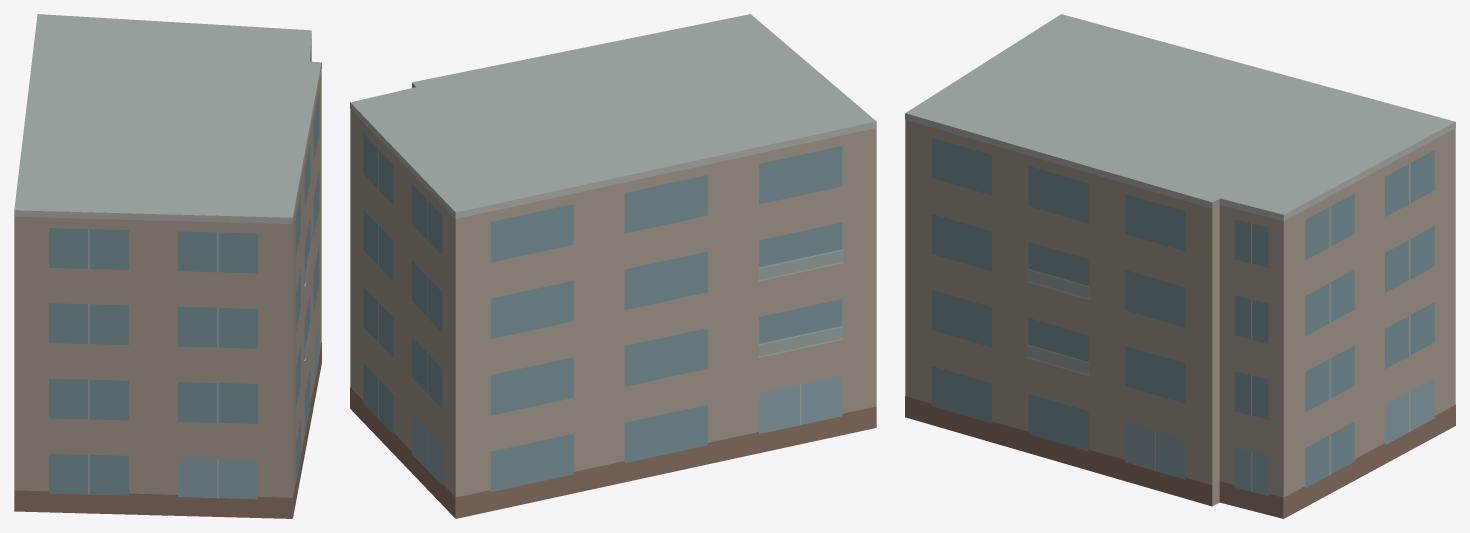
Rendered from survey-upis-32737419.glb.
3 views of the same model, side by side, from view 1: azimuth 30°, elevation 25°; view 2: azimuth 150°, elevation 25°; view 3: azimuth 270°, elevation 25° (orthographic).
Visible parts, largest first — view 1: survey-upis-32737419.tmp; view 2: survey-upis-32737419.tmp; view 3: survey-upis-32737419.tmp.
Part boxes in pixels (x1,y1,x2,y2): survey-upis-32737419.tmp: [14, 14, 321, 518]; survey-upis-32737419.tmp: [350, 14, 876, 518]; survey-upis-32737419.tmp: [905, 14, 1455, 518].
Size of the model in its own units: 16.3 by 11.5 by 18.88.
